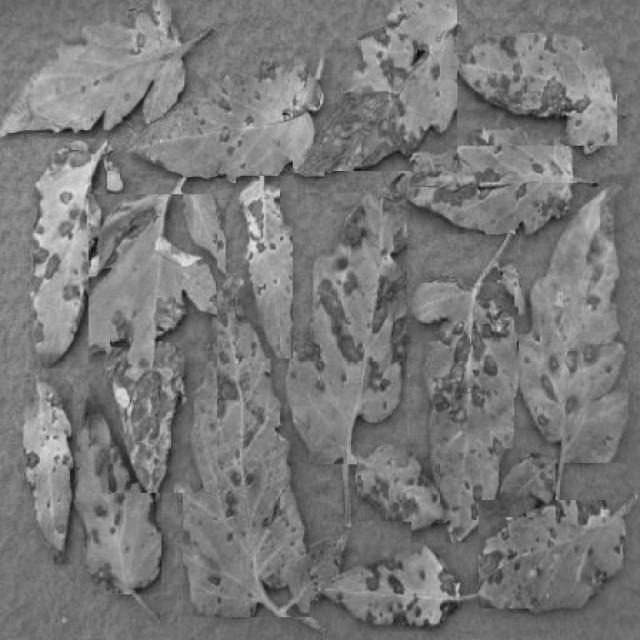Early Blight: (183, 273, 310, 617), (89, 194, 217, 493), (290, 193, 407, 464), (518, 184, 628, 464), (293, 0, 457, 170), (412, 283, 515, 543), (2, 3, 188, 133), (137, 62, 326, 178), (391, 124, 574, 234), (73, 380, 161, 594), (452, 33, 617, 146), (32, 138, 107, 368), (478, 501, 626, 609), (320, 543, 480, 631), (236, 176, 293, 360), (22, 377, 74, 564), (357, 444, 440, 522), (173, 200, 226, 280), (498, 449, 556, 517)
